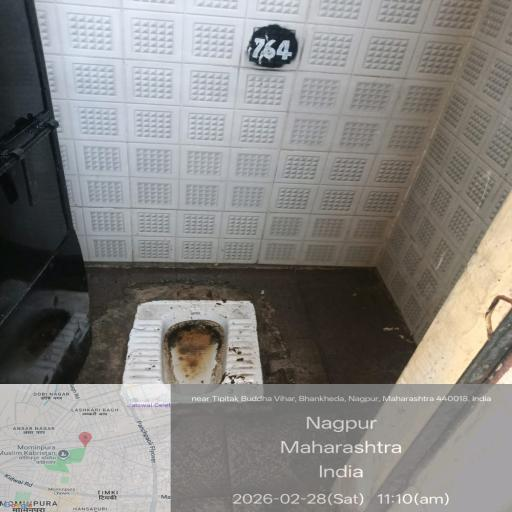clean_floor: (11, 4, 502, 286)
dirty_indian: (70, 264, 276, 456)
